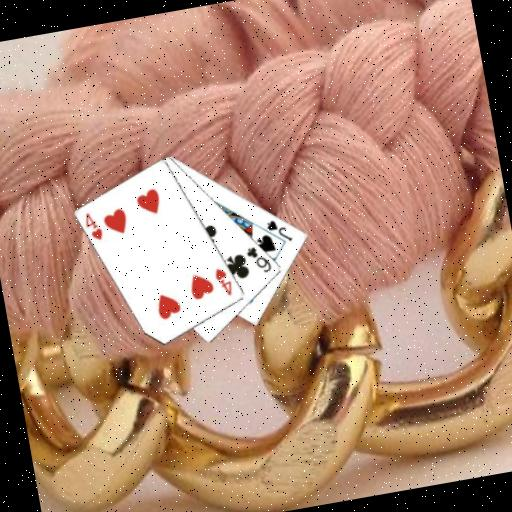4H: (80, 208, 106, 244), (211, 263, 235, 298)
6C: (242, 241, 274, 277)
JS: (262, 214, 294, 247)
